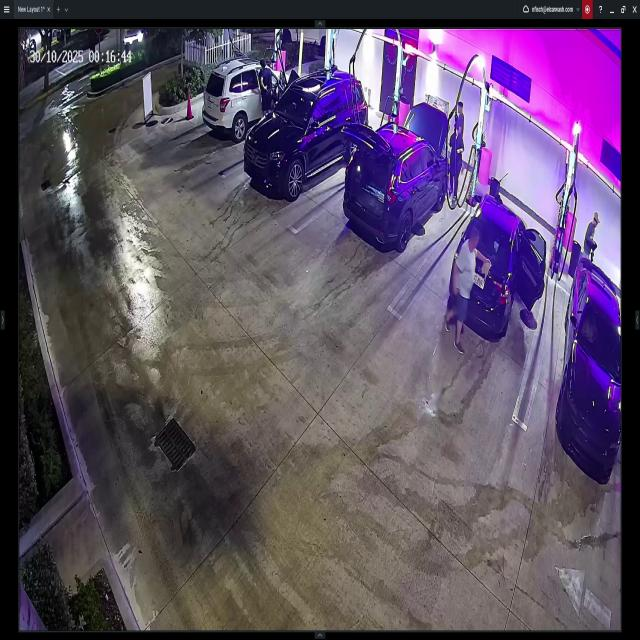Car: (341, 92, 449, 248), (242, 68, 369, 194), (554, 256, 622, 479), (452, 194, 546, 344), (203, 66, 301, 136), (281, 24, 325, 53)
